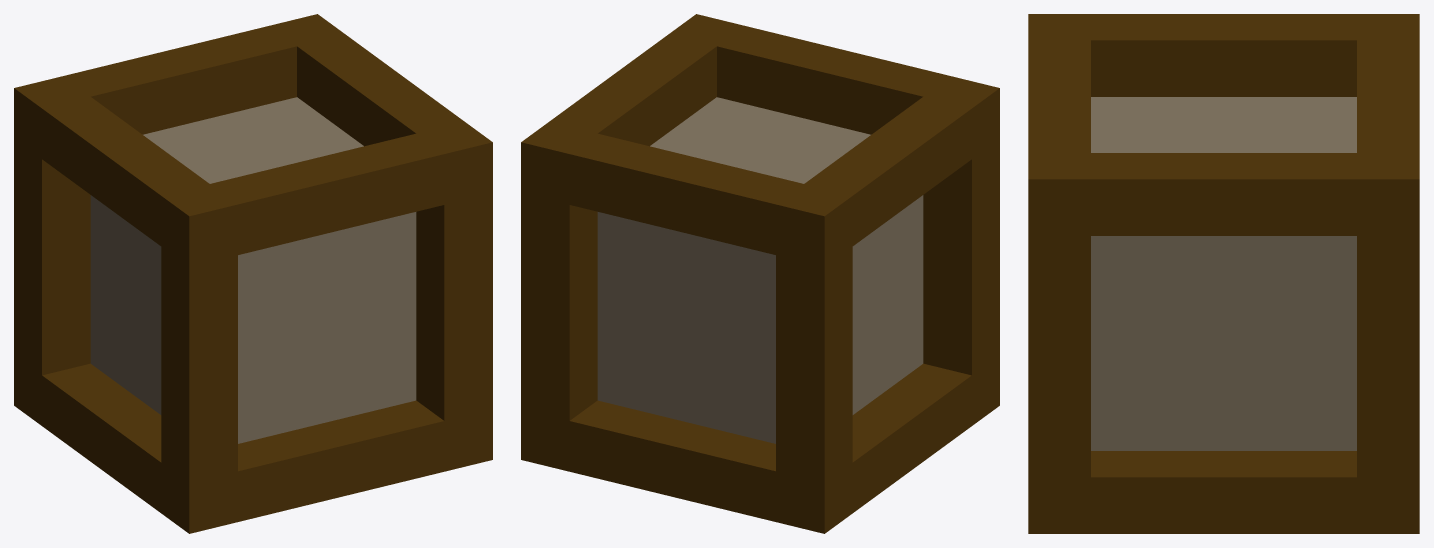
The model's file is quest_item1.glb.
3 renders of one model, left to right at view 1: azimuth 30°, elevation 25°; view 2: azimuth 150°, elevation 25°; view 3: azimuth 270°, elevation 25°, orthographic. The views are drawn at different scales.
Visible parts, largest first — view 1: Cube.001, Cube; view 2: Cube.001, Cube; view 3: Cube.001, Cube.
Boxes of the visible parts, x1,y1,x2,y2 form: Cube.001: (14, 14, 492, 533); Cube: (90, 97, 416, 443); Cube.001: (521, 14, 999, 533); Cube: (597, 97, 923, 443); Cube.001: (1028, 14, 1419, 533); Cube: (1091, 97, 1356, 450).
Size of the model in its own units: 2.94 by 2.94 by 2.94.
